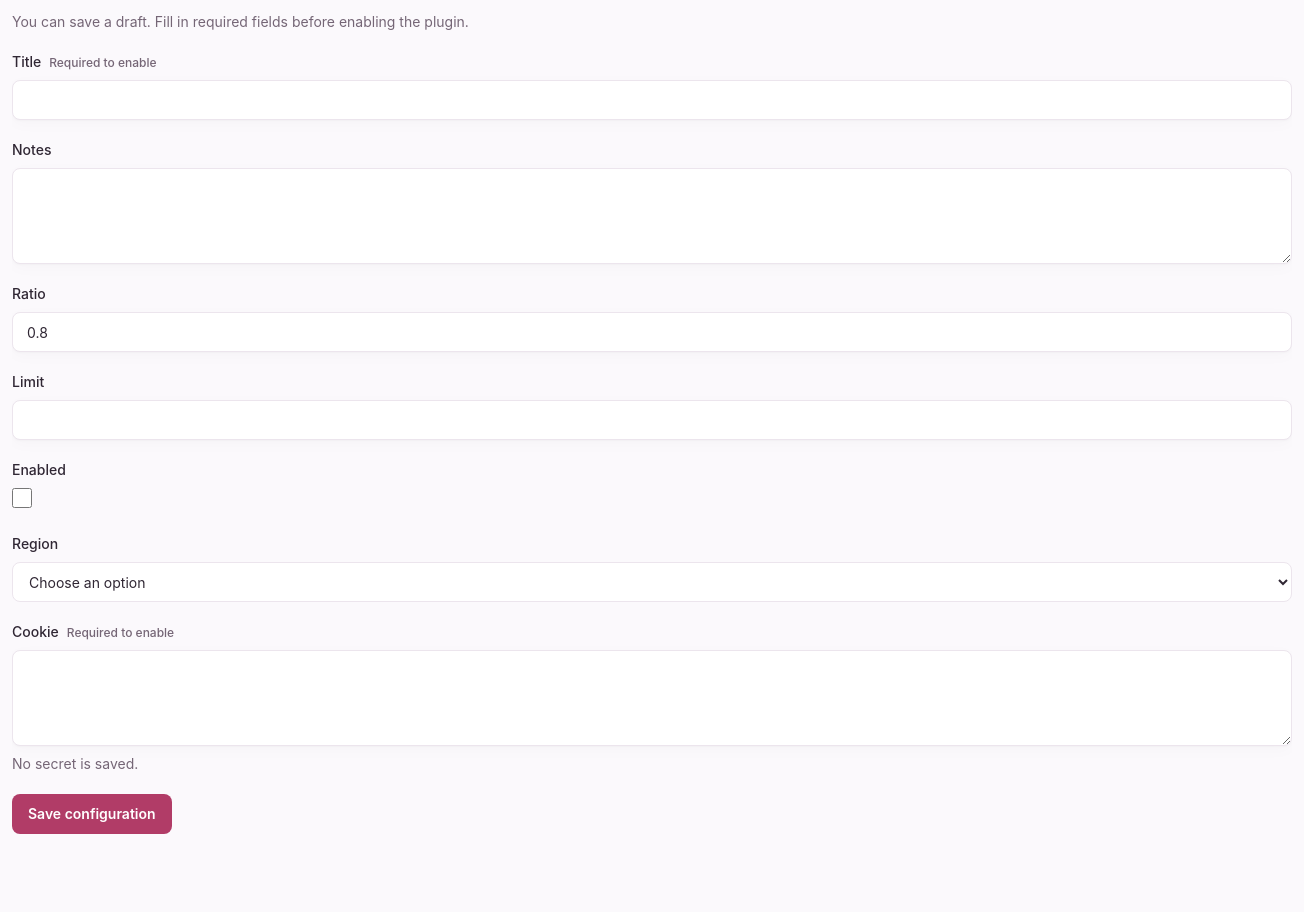
Test: clearing a defaulted number explains the reset and displays its default after saving
The width and height of the screenshot is (1304, 912).
Clear the field labelled "Ratio": (652, 332) [12,312,1292,352]
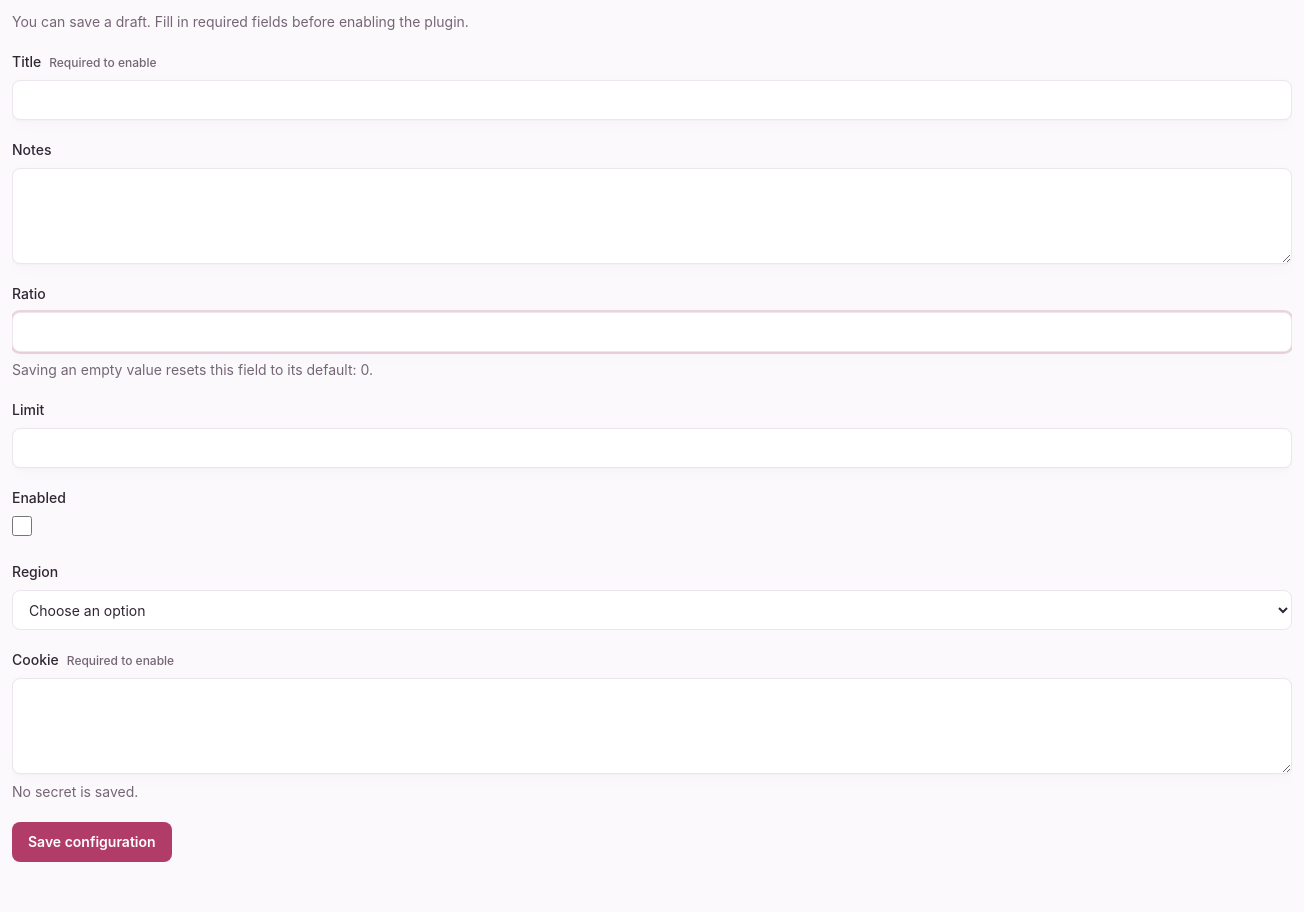
Click the button "Save configuration": (92, 842) [12,822,172,862]
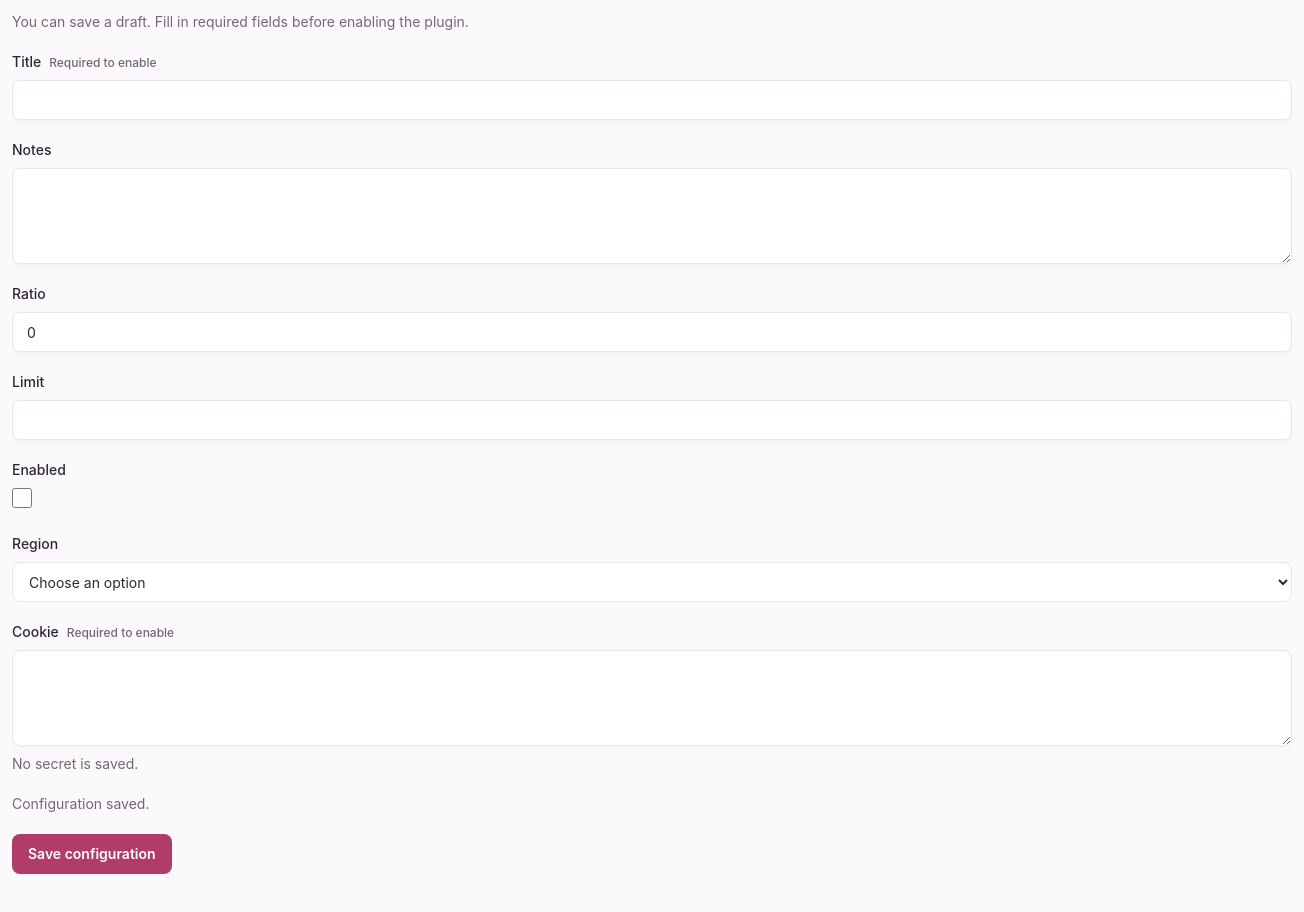
Expected: the field labelled "Ratio" holds "0", [12,312,1292,352]
